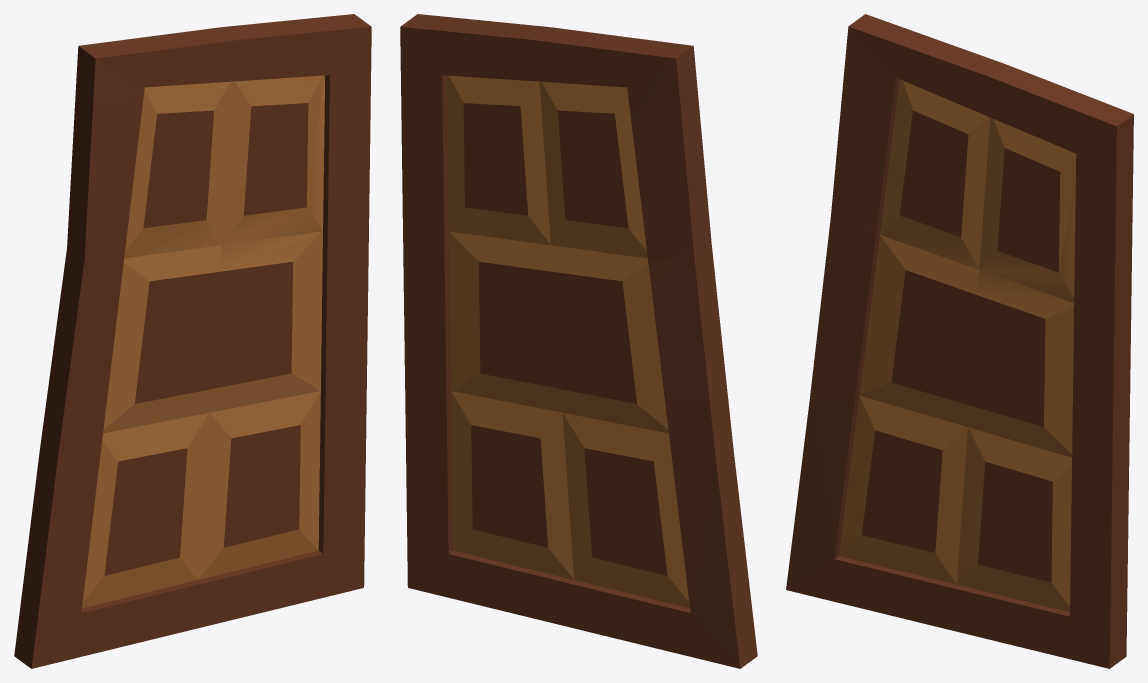
File: Door_Rectangle.glb
3 renders of one model, left to right at view 1: azimuth 30°, elevation 25°; view 2: azimuth 150°, elevation 25°; view 3: azimuth 330°, elevation 25°, orthographic. The views are drawn at different scales.
Visible parts, largest first — view 1: Puzzle05_Door.002; view 2: Puzzle05_Door.002; view 3: Puzzle05_Door.002.
Part boxes in pixels (x1,y1,x2,y2): Puzzle05_Door.002: (14, 14, 371, 668); Puzzle05_Door.002: (400, 14, 757, 668); Puzzle05_Door.002: (786, 14, 1133, 668).
Size of what is drawn, in the model's own units: 2.04 by 3.41 by 0.2163.
1 material, 1 textured.
